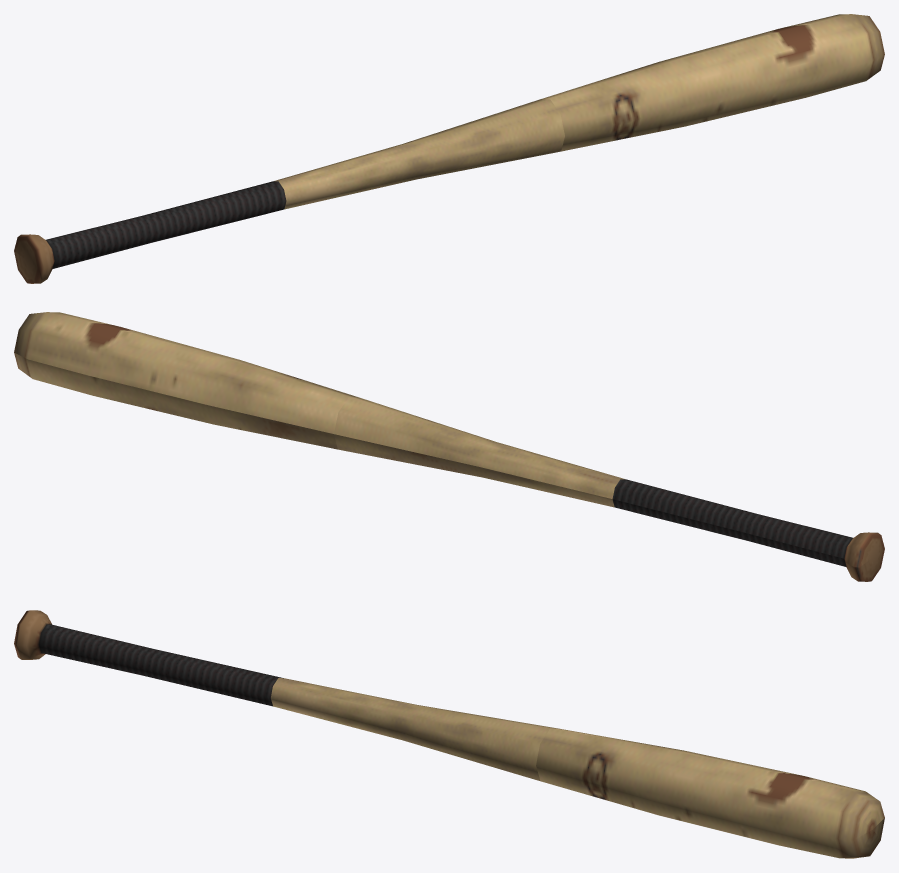
File: baseball_bat.obj
The picture shows the model from 3 angles, top to bottom: view 1: azimuth 30°, elevation 25°; view 2: azimuth 150°, elevation 25°; view 3: azimuth 330°, elevation 25°; orthographic projection.
Parts seen in each view (by area): view 1: baseball_bat; view 2: baseball_bat; view 3: baseball_bat.
Boxes of the visible parts, bbox=[...] form: baseball_bat: bbox=[14, 14, 884, 283]; baseball_bat: bbox=[14, 312, 884, 581]; baseball_bat: bbox=[14, 610, 884, 858].
Bounding box in the file's own units: 0.8402 × 0.0661 × 0.066.
1 material, 1 textured.
